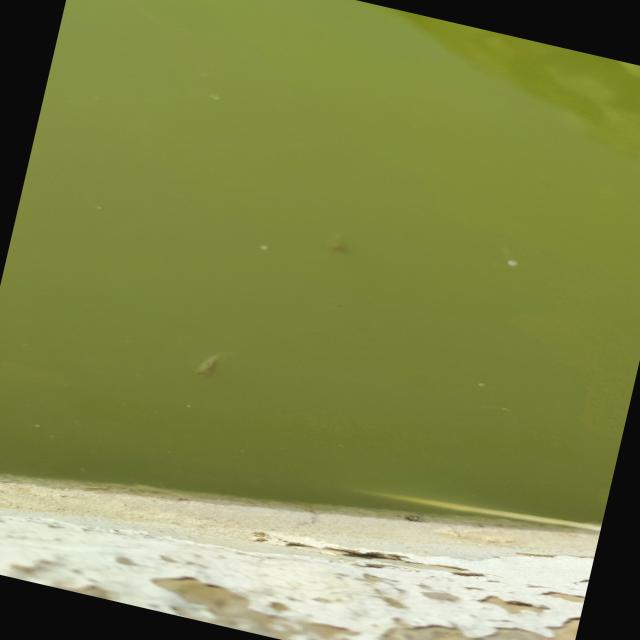Sivrisinek Baligi: (182, 344, 234, 386)
